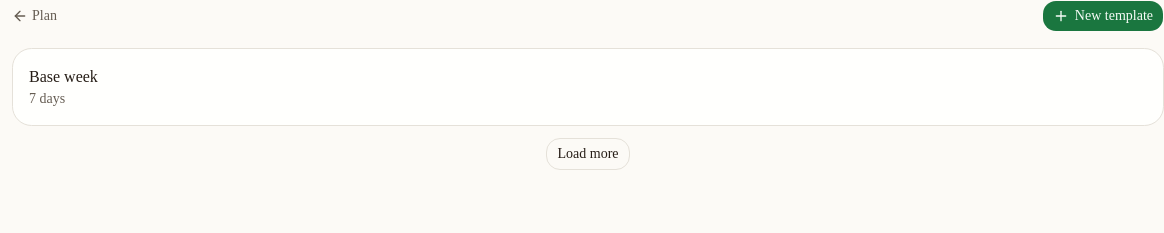
Scenario: TemplatesPage › asks for the next page with the API's cursor
Click the button "Load more" at (588, 154), box [546,138,630,170]
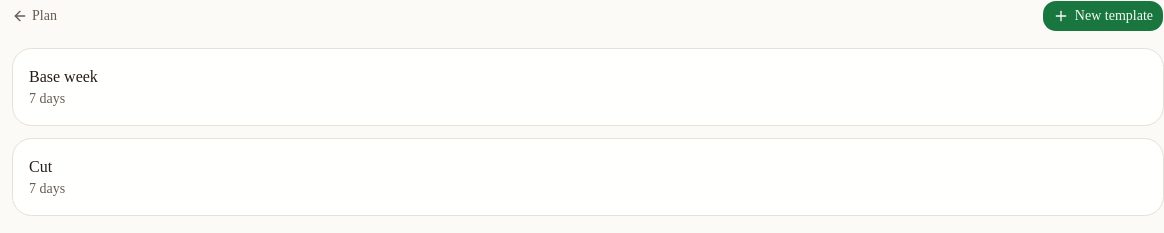
Expected: the link "Cut 7 days" is shown, [29,158,65,196]
